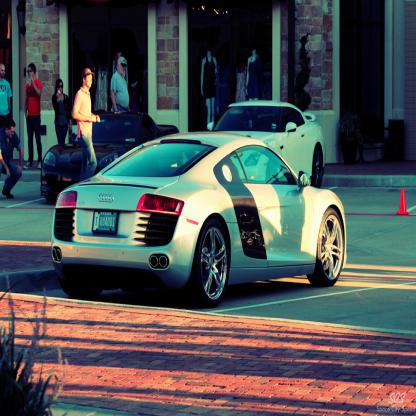Car: (51, 130, 345, 307), (42, 110, 179, 200), (206, 99, 325, 186)
